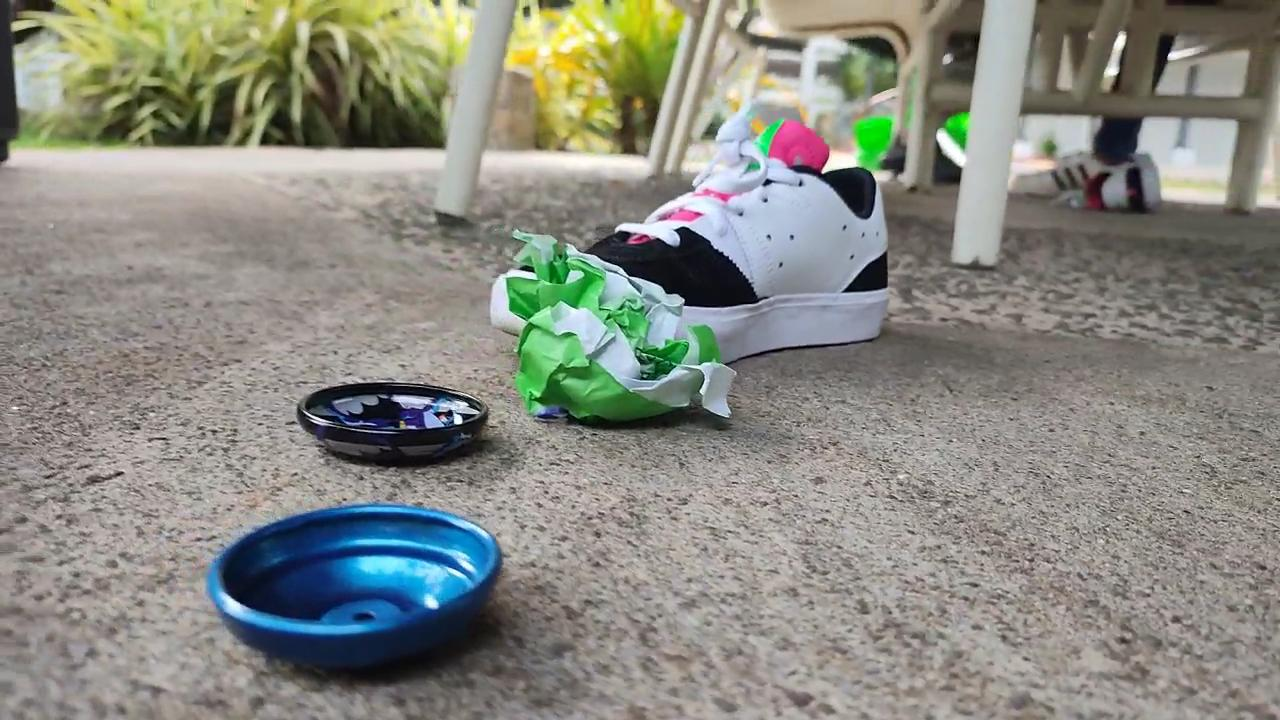Paper: (478, 204, 747, 436)
